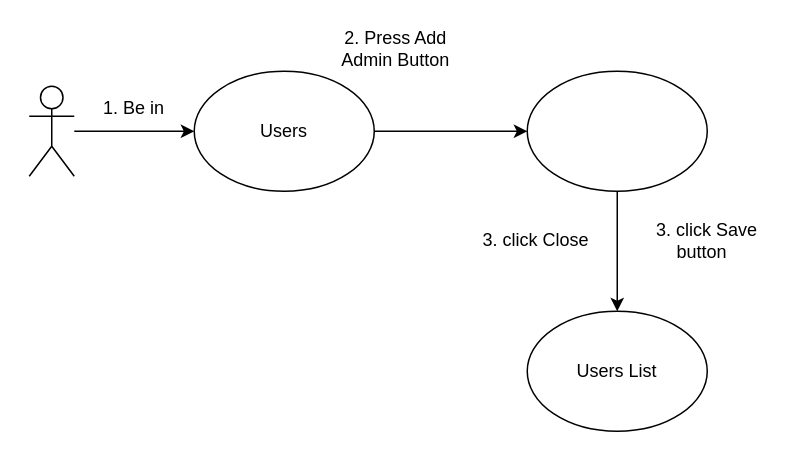
Some shapes in this 801 by 458 pixel diagram are drawn without their labels. Here are the shapes that lost their labels. From the top down, the centre of each, then its label:
At point 51,130: "Admin".
At point 616,130: "Add Admin form".
